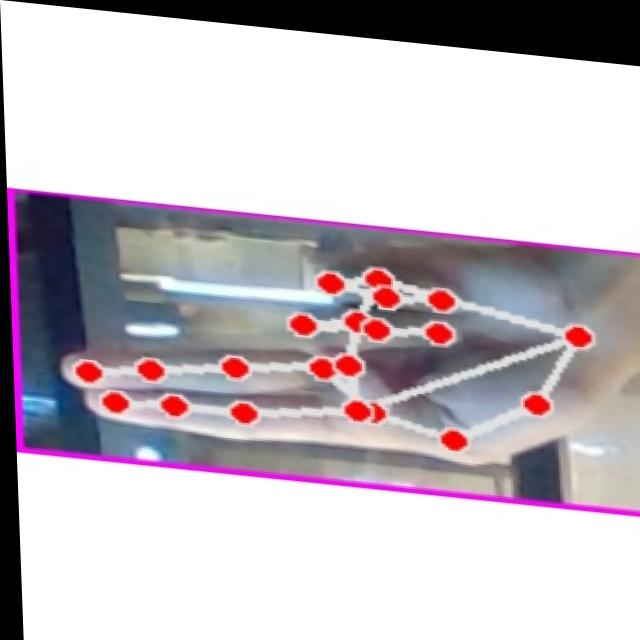H: (52, 203, 622, 470)
